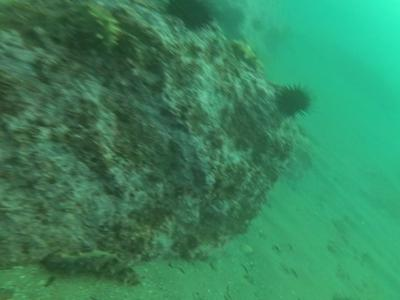holothurian: (40, 250, 141, 291), (77, 4, 121, 52), (229, 38, 260, 71)
urchin: (274, 83, 311, 121), (175, 4, 211, 31)
